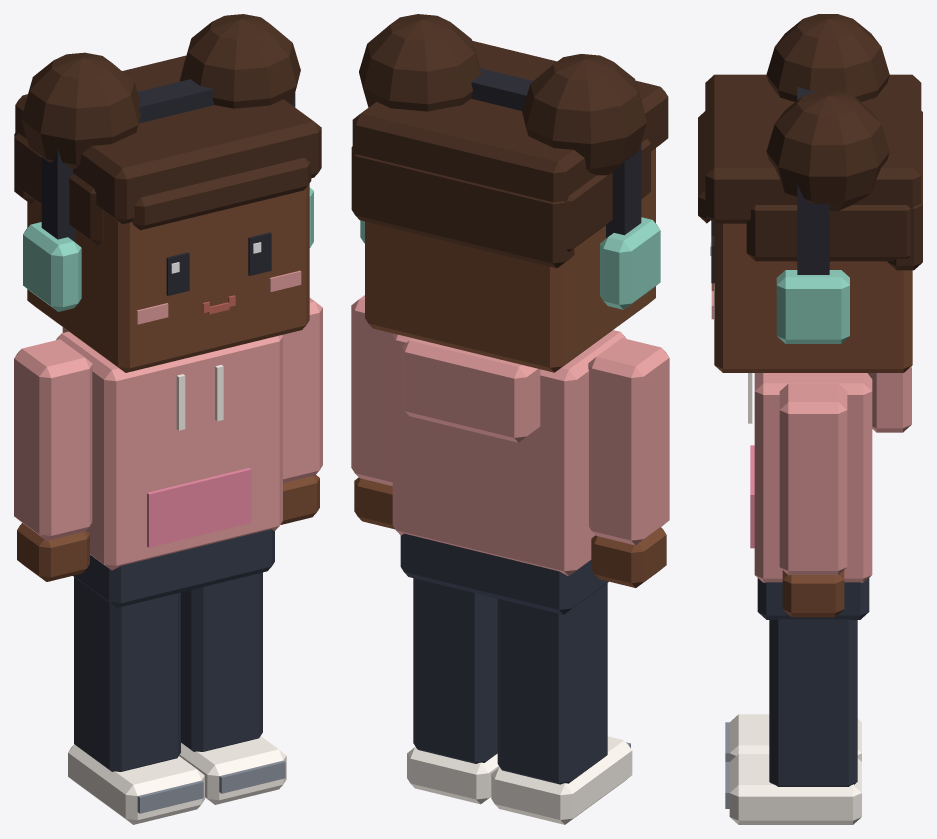
Rendered from CatCafe_NPC_Customer_E.glb.
3 views of the same model, side by side, from view 1: azimuth 30°, elevation 25°; view 2: azimuth 150°, elevation 25°; view 3: azimuth 270°, elevation 25° (orthographic). The views are drawn at different scales.
Visible parts, largest first — view 1: CatCafe_NPC_Customer_E; view 2: CatCafe_NPC_Customer_E; view 3: CatCafe_NPC_Customer_E.
Boxes of the visible parts, bbox=[...] form: CatCafe_NPC_Customer_E: bbox=[14, 14, 322, 824]; CatCafe_NPC_Customer_E: bbox=[351, 14, 669, 824]; CatCafe_NPC_Customer_E: bbox=[698, 14, 922, 824].
Size of the model in its own units: 2.22 by 5.5 by 1.53.
1 material, 1 textured.
